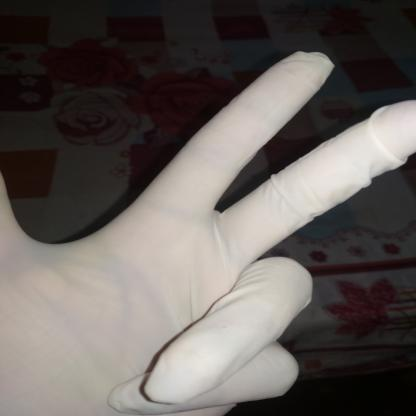gloved_hand: (2, 48, 414, 414)
